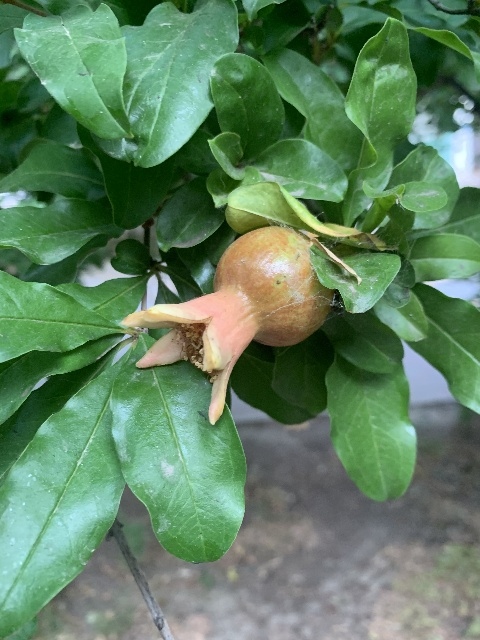early-fruit: (120, 227, 333, 424)
